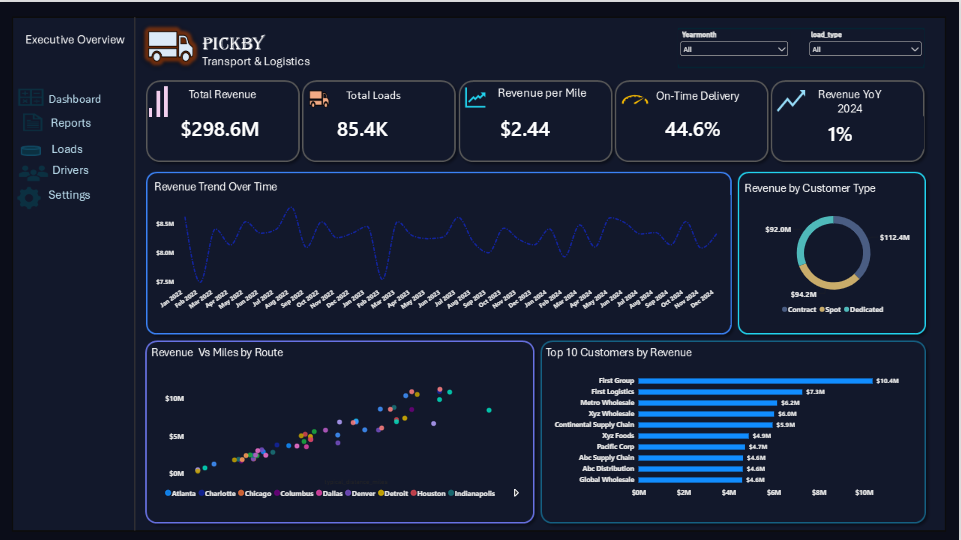

Layout of this report page (visuals, bound fields, positions):
{"tool":"powerbi","page":{"name":"Executive Overview","canvas":[1920,1080],"ordinal":0},"visuals":[{"type":"lineChart","fields":{"Y":["Measure.Total Revenue"],"Category":["Date.Yearmonth"]},"box":[298.2,386.1,1164.9,259.6],"z":0},{"type":"actionButton","box":[0,0,100,40],"z":1000},{"type":"cardVisual","fields":{"Data":["Measure.Total Revenue"]},"box":[345.4,203.8,244.6,94.4],"z":2000},{"type":"cardVisual","fields":{"Data":["Measure.Total Loads"]},"box":[660.7,203.8,240.3,94.4],"z":3000},{"type":"cardVisual","fields":{"Data":["Measure.Revenue per Mile"]},"box":[986.8,203.8,214.5,94.4],"z":4000},{"type":"cardVisual","fields":{"Data":["Measure.On-Time Delivery %"]},"box":[1315,203.8,210.2,94.4],"z":5000},{"type":"donutChart","fields":{"Y":["Measure.Total Revenue"],"Category":["customers.Customer_Type"]},"box":[1490.9,390.4,358.3,255.3],"z":6000},{"type":"clusteredBarChart","fields":{"Category":["customers.Customer_Name"],"Y":["Measure.Total Revenue"]},"box":[1094.1,722.9,740.1,289.6],"z":7000},{"type":"scatterChart","fields":{"X":["routes.typical_distance_miles"],"Y":["Measure.Total Revenue"],"Series":["routes.destination_city"]},"box":[315.4,740.1,748.7,272.4],"z":8000},{"type":"slicer","fields":{"Values":["loads.load_type"]},"box":[1615.4,55.8,233.8,68.6],"z":9000},{"type":"cardVisual","fields":{"Data":["Measure.Revenue YoY 2024"]},"box":[1641.1,223.1,208.1,75.1],"z":10000},{"type":"slicer","fields":{"Values":["Date.Yearmonth"]},"box":[1357.9,55.8,225.3,68.6],"z":11000}]}

Visuals, with their boxes on the page's 1920x1080 design canvas (x1, y1, x2, y2). These are canvas units, not pixel positions in the 961x540 screenshot, which may show the page scaled, cropped or inside an application window:
lineChart - Measure.Total Revenue x Date.Yearmonth: left=298, top=386, right=1463, bottom=646
actionButton: left=0, top=0, right=100, bottom=40
cardVisual - Measure.Total Revenue: left=345, top=204, right=590, bottom=298
cardVisual - Measure.Total Loads: left=661, top=204, right=901, bottom=298
cardVisual - Measure.Revenue per Mile: left=987, top=204, right=1201, bottom=298
cardVisual - Measure.On-Time Delivery %: left=1315, top=204, right=1525, bottom=298
donutChart - Measure.Total Revenue x customers.Customer_Type: left=1491, top=390, right=1849, bottom=646
clusteredBarChart - customers.Customer_Name x Measure.Total Revenue: left=1094, top=723, right=1834, bottom=1012
scatterChart - routes.typical_distance_miles x Measure.Total Revenue: left=315, top=740, right=1064, bottom=1012
slicer - loads.load_type: left=1615, top=56, right=1849, bottom=124
cardVisual - Measure.Revenue YoY 2024: left=1641, top=223, right=1849, bottom=298
slicer - Date.Yearmonth: left=1358, top=56, right=1583, bottom=124
